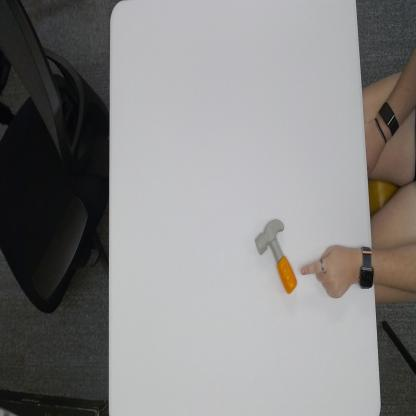Hammer: (256, 216, 296, 295)
Hand: (302, 242, 358, 301)
